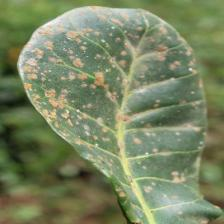red rust: (16, 5, 222, 223)
